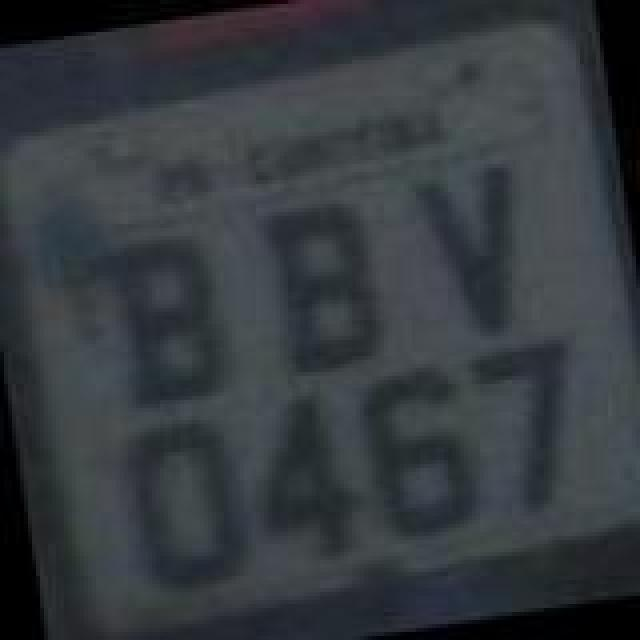4: (240, 388, 368, 572)
6: (348, 360, 484, 544)
7: (464, 334, 592, 522)
B: (256, 192, 392, 384), (100, 228, 236, 412)
O: (112, 410, 256, 598)
V: (406, 160, 538, 352)
